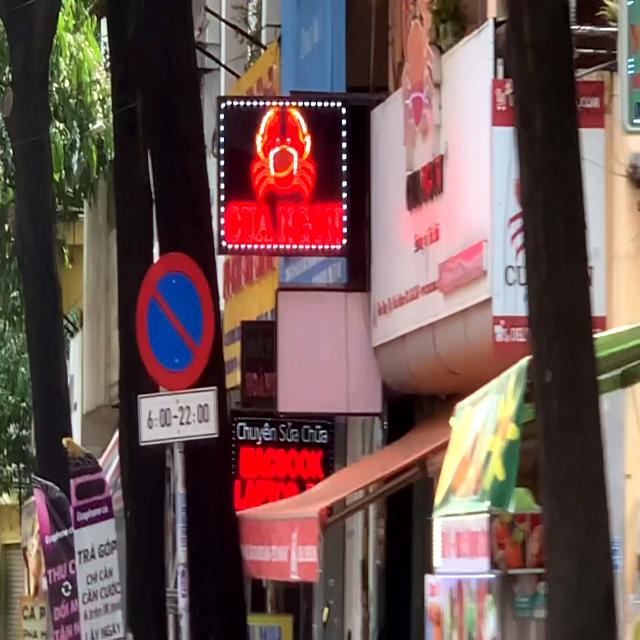P.131a: (137, 249, 217, 388)
